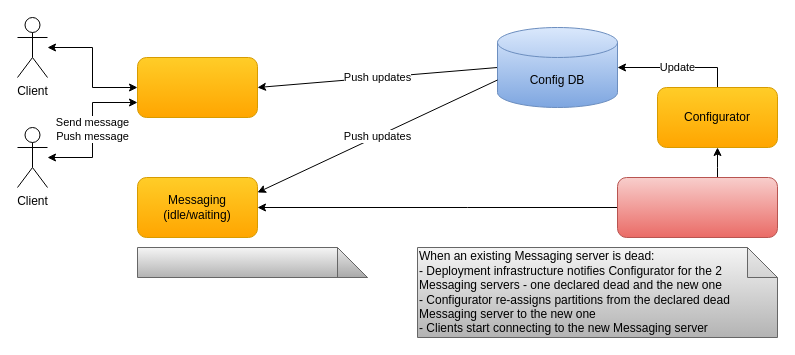
Some shapes in this 795 by 355 pixel diagram are drawn without their labels. The box of each missing label's shape, as (x1, y1, x2, y2) in pixels:
Deployment infrastructure: (616, 176, 778, 238)
Keep idle Messaging server instances ready for replacing dead ones: (136, 246, 368, 278)
Messaging: (136, 56, 258, 118)
